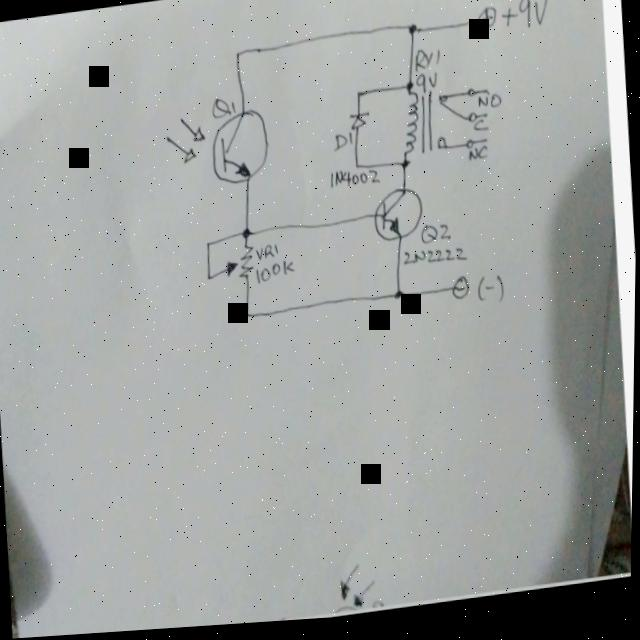diode: (348, 112, 372, 136)
junction: (233, 50, 243, 66), (241, 228, 251, 244), (242, 310, 252, 326), (394, 291, 404, 307), (353, 162, 363, 178), (407, 28, 417, 44), (204, 240, 214, 255), (204, 273, 214, 288), (400, 161, 410, 176), (354, 91, 364, 106), (405, 83, 415, 98)
resistor: (223, 242, 258, 288)
terminal: (450, 279, 472, 311), (475, 8, 497, 37), (480, 138, 492, 154), (480, 112, 491, 128), (481, 91, 492, 106)
text: (500, 0, 551, 41), (253, 242, 296, 290), (403, 245, 468, 275), (329, 166, 381, 196), (412, 50, 443, 98), (476, 276, 506, 313), (418, 225, 452, 254), (210, 98, 238, 124), (331, 130, 355, 156), (478, 96, 504, 117), (467, 151, 490, 171), (473, 121, 492, 141)
transistor: (163, 106, 272, 198), (371, 188, 426, 251)
